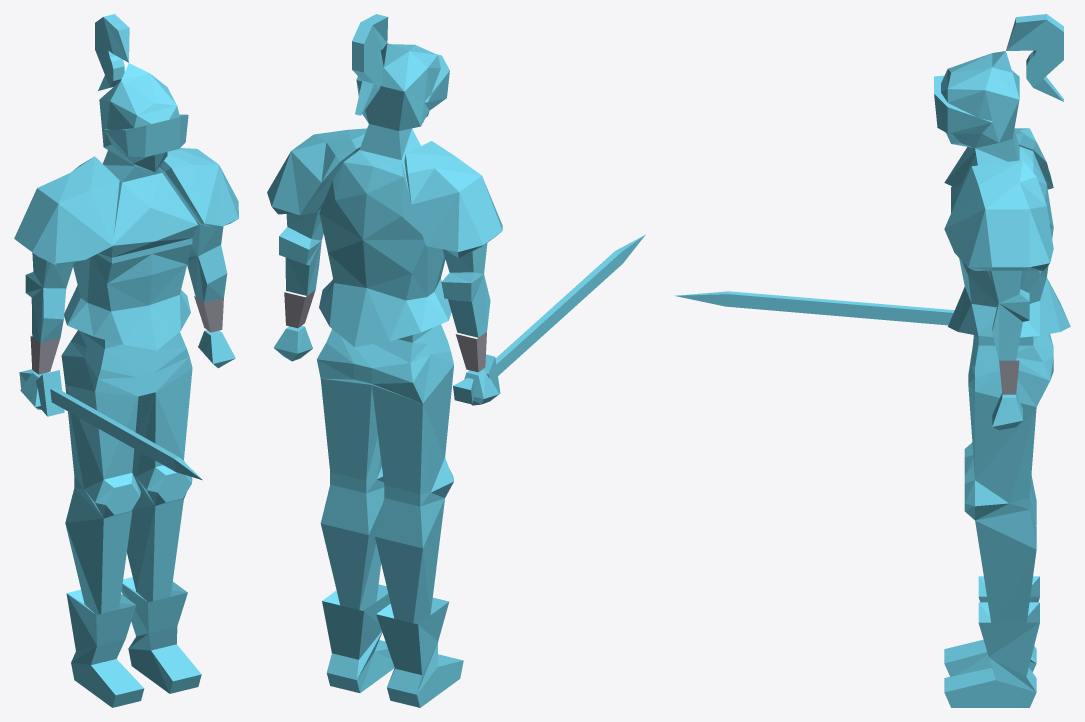
File: ice_warrior.glb
3 renders of one model, left to right at view 1: azimuth 30°, elevation 25°; view 2: azimuth 150°, elevation 25°; view 3: azimuth 270°, elevation 25°, orthographic. The views are drawn at different scales.
Size of the model in its own units: 72 by 216 by 116.
Materials: 1 (1 with a texture image).
